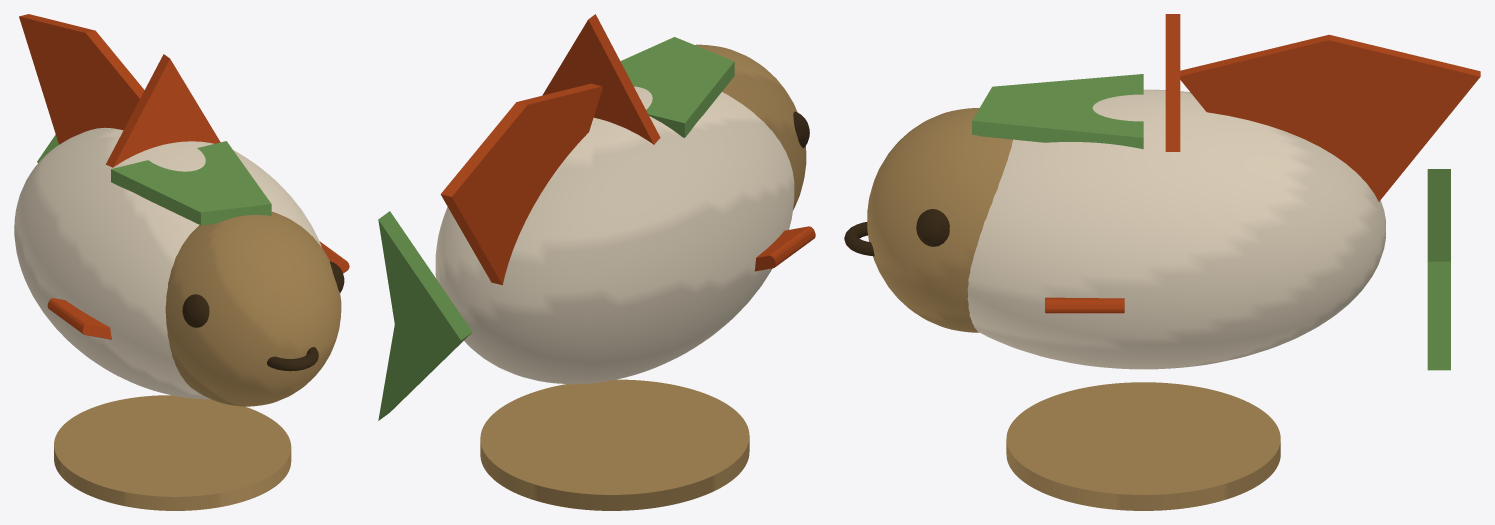
File: 0483_鱼类图鉴_剑鱼.glb
3 renders of one model, left to right at view 1: azimuth 30°, elevation 25°; view 2: azimuth 150°, elevation 25°; view 3: azimuth 270°, elevation 25°, orthographic. The views are drawn at different scales.
Parts seen in each view (by area): view 1: card_0483; view 2: card_0483; view 3: card_0483.
Part boxes in pixels (bbox=[...]): card_0483: bbox=[14, 14, 349, 510]; card_0483: bbox=[378, 14, 815, 510]; card_0483: bbox=[844, 14, 1480, 510].
Bounding box in the file's own units: 0.7124 × 1 × 1.3.
